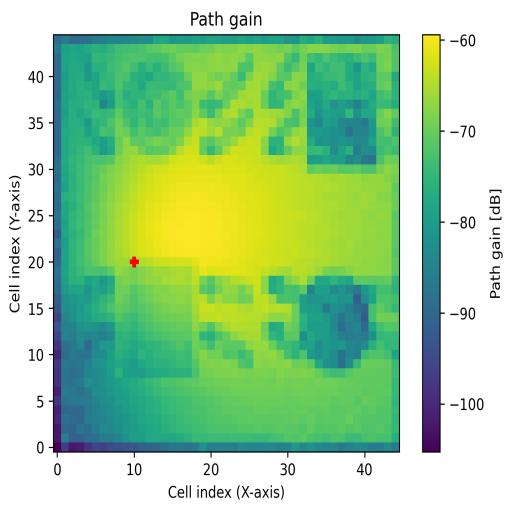Concrete: (307, 52, 377, 173)
Glass: (122, 54, 192, 154)
Metal: (283, 268, 377, 369)
Wood: (131, 257, 200, 378)
